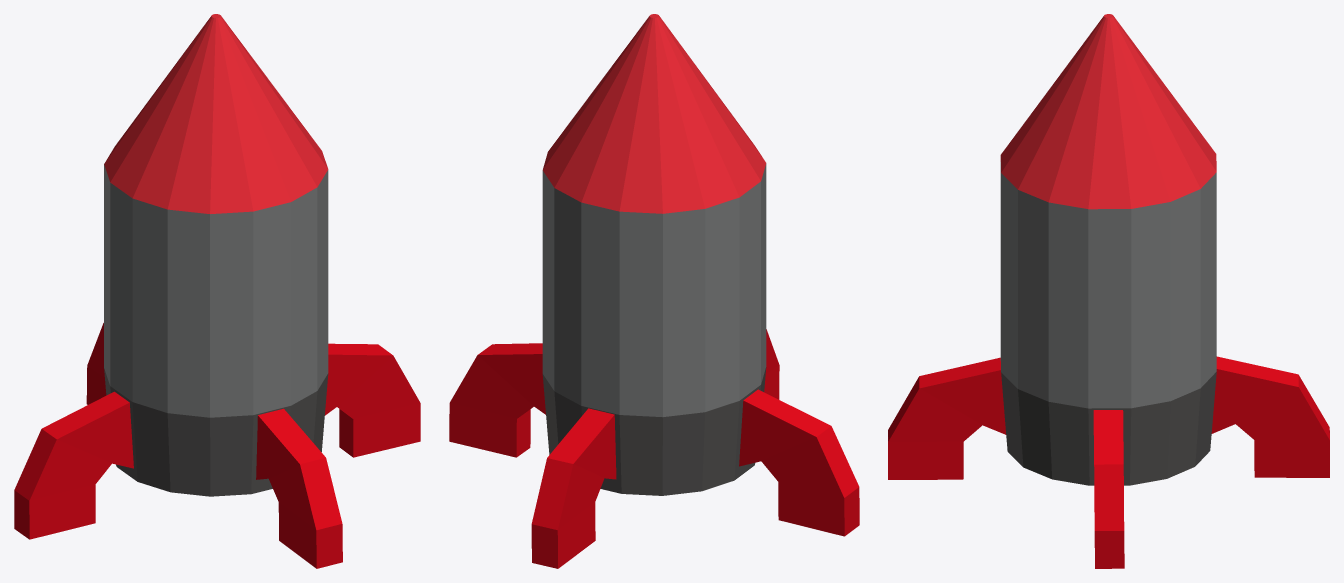
The model's file is PencilRocket.glb.
The picture shows the model from 3 angles, left to right: view 1: azimuth 30°, elevation 25°; view 2: azimuth 150°, elevation 25°; view 3: azimuth 270°, elevation 25°; orthographic projection. The views are drawn at different scales.
Visible parts, largest first — view 1: Cylinder; view 2: Cylinder; view 3: Cylinder.
Boxes of the visible parts, box(x1,y1,x2,y2) form: Cylinder: box(14, 14, 420, 568); Cylinder: box(449, 14, 859, 568); Cylinder: box(888, 14, 1329, 568).
Size of the model in its own units: 4.05 by 4.61 by 4.02.
